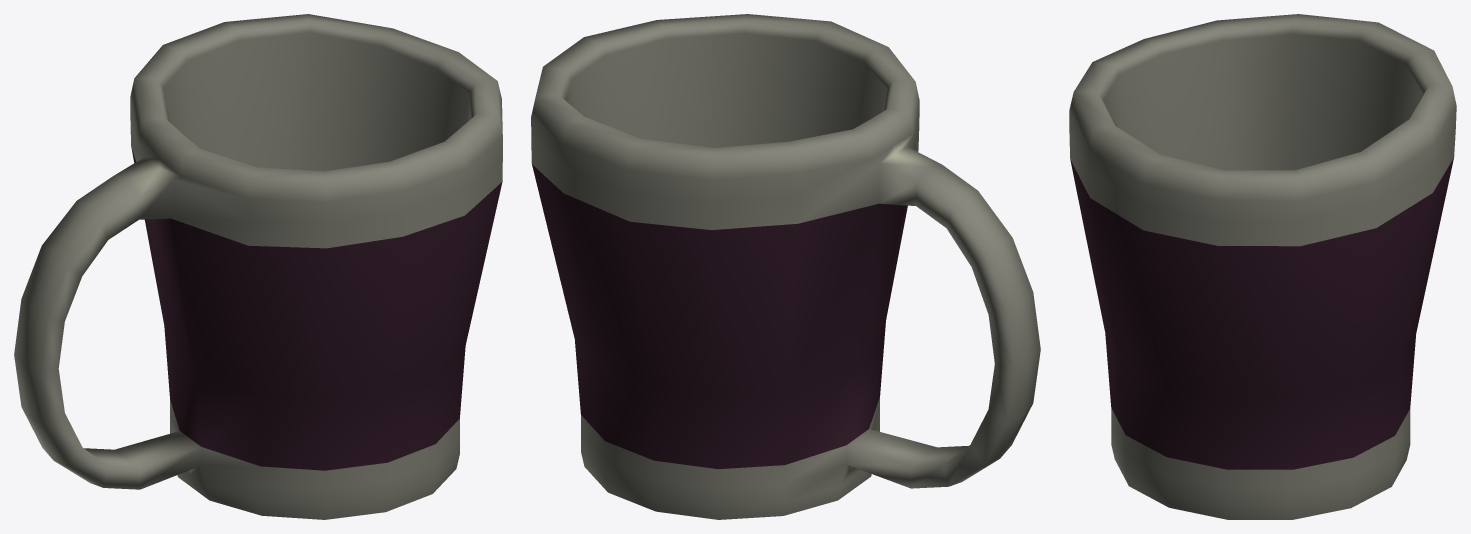
Rendered from emptyMug.fbx.
3 renders of one model, left to right at view 1: azimuth 30°, elevation 25°; view 2: azimuth 150°, elevation 25°; view 3: azimuth 270°, elevation 25°, orthographic. The views are drawn at different scales.
Parts seen in each view (by area): view 1: mug03; view 2: mug03; view 3: mug03.
Boxes of the visible parts, x1,y1,x2,y2 form: mug03: [14, 14, 502, 519]; mug03: [531, 14, 1040, 519]; mug03: [1069, 14, 1456, 519].
Bounding box in the file's own units: 216 × 167 × 155.
